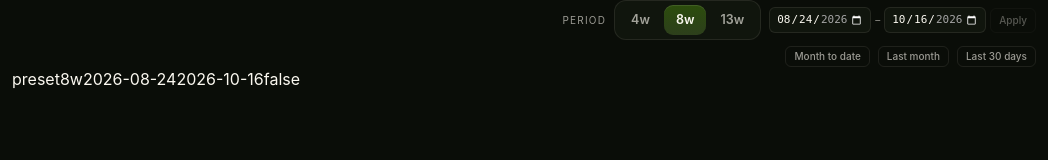
Test case: PeriodPicker › still switches presets
Click the button titled "Last 13 ISO weeks" at (732, 20), box [708,5,756,35]
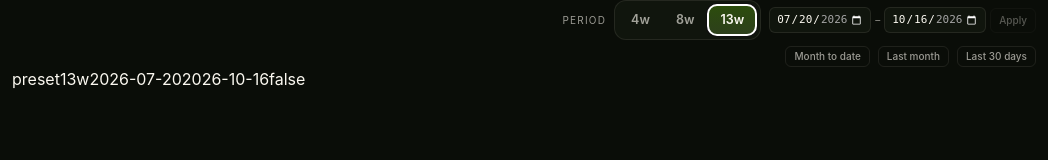
Expected: the text with test id "snapped" reads "false", [269,69,305,89]
Expected: the text with test id "label" reads "13w", [60,69,89,89]
